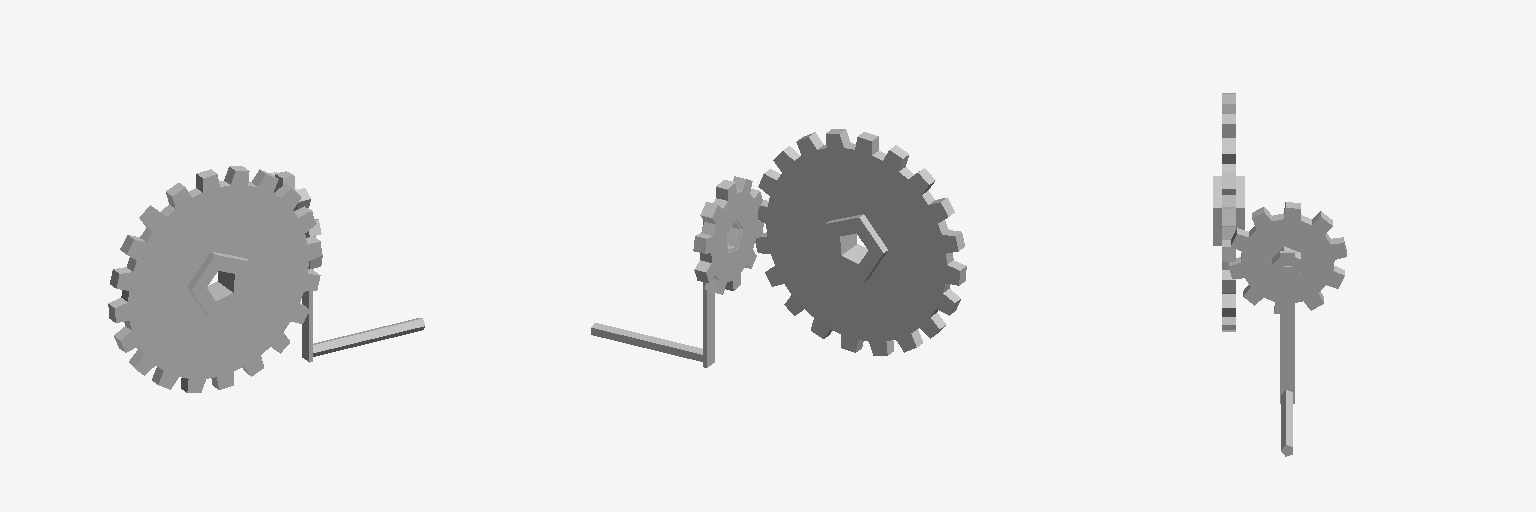
File: Gears_02_Unwrapped.obj
3 views of the same model, side by side, from view 1: azimuth 30°, elevation 25°; view 2: azimuth 150°, elevation 25°; view 3: azimuth 270°, elevation 25° (orthographic).
Parts seen in each view (by area): view 1: Gears:default1; view 2: Gears:default1; view 3: Gears:default1.
Part boxes in pixels (bbox=[...]): Gears:default1: bbox=[108, 166, 424, 392]; Gears:default1: bbox=[591, 129, 966, 367]; Gears:default1: bbox=[1213, 93, 1346, 456].
Size of the model in its own units: 4.17 by 2.81 by 1.42.